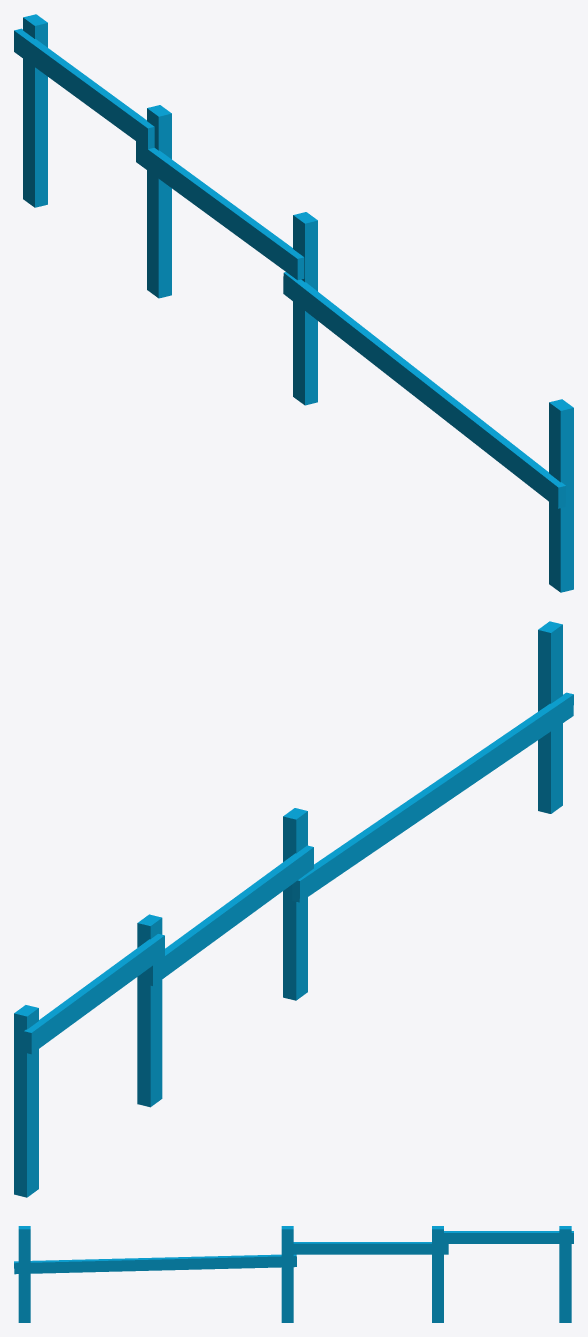
Rendered from House_Platform_Fence_01_Lod0.fbx.
3 renders of one model, top to bottom at view 1: azimuth 30°, elevation 25°; view 2: azimuth 150°, elevation 25°; view 3: azimuth 270°, elevation 25°, orthographic. The views are drawn at different scales.
Visible parts, largest first — view 1: House_Platform_Fence_01_Lod0; view 2: House_Platform_Fence_01_Lod0; view 3: House_Platform_Fence_01_Lod0.
Boxes of the visible parts, left/top/right/bottom form: House_Platform_Fence_01_Lod0: left=14, top=14, right=573, bottom=592; House_Platform_Fence_01_Lod0: left=14, top=621, right=573, bottom=1197; House_Platform_Fence_01_Lod0: left=14, top=1226, right=573, bottom=1322.
Bounding box in the file's own units: 13.13 × 114 × 621.
